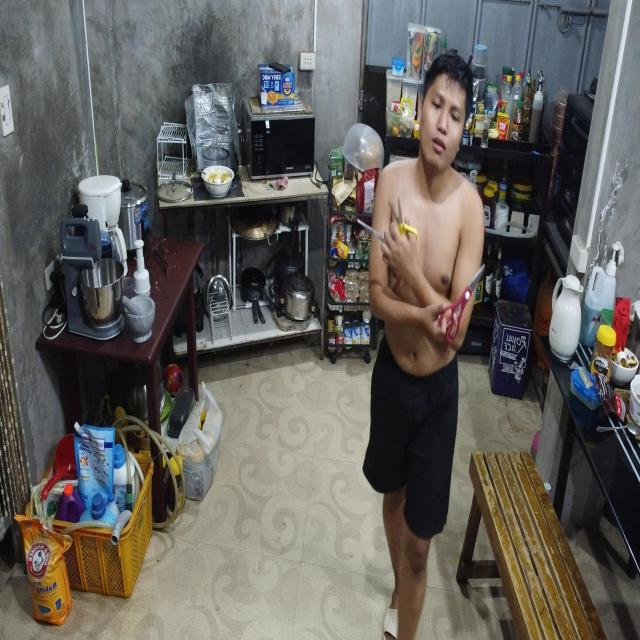scissor: (438, 264, 485, 346), (388, 194, 418, 250), (356, 219, 390, 248)
